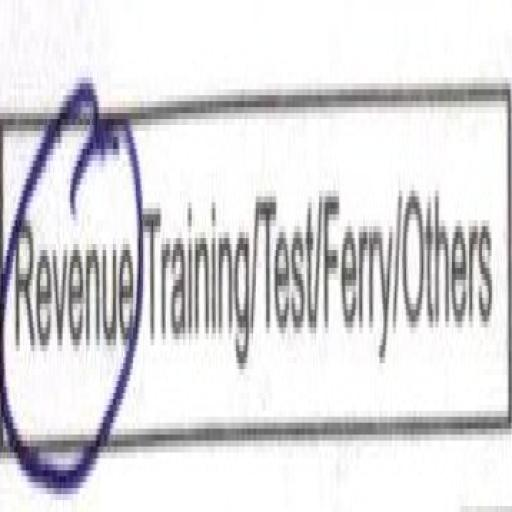check: (4, 47, 142, 512)
